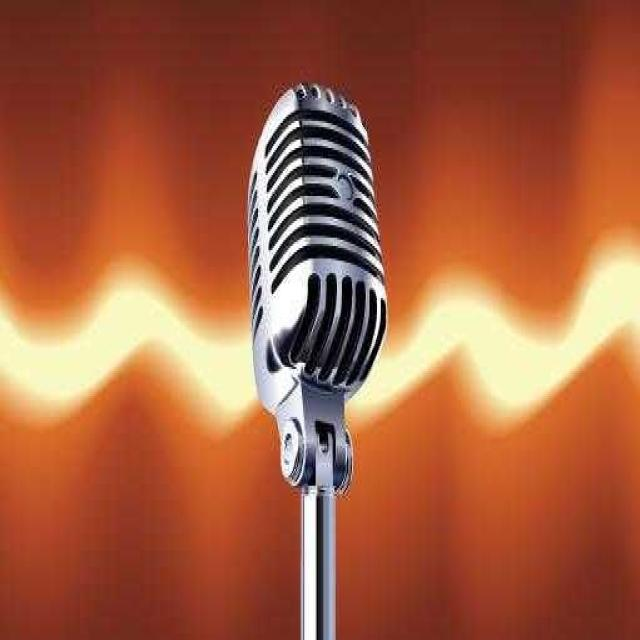microphone: (244, 81, 389, 496)
